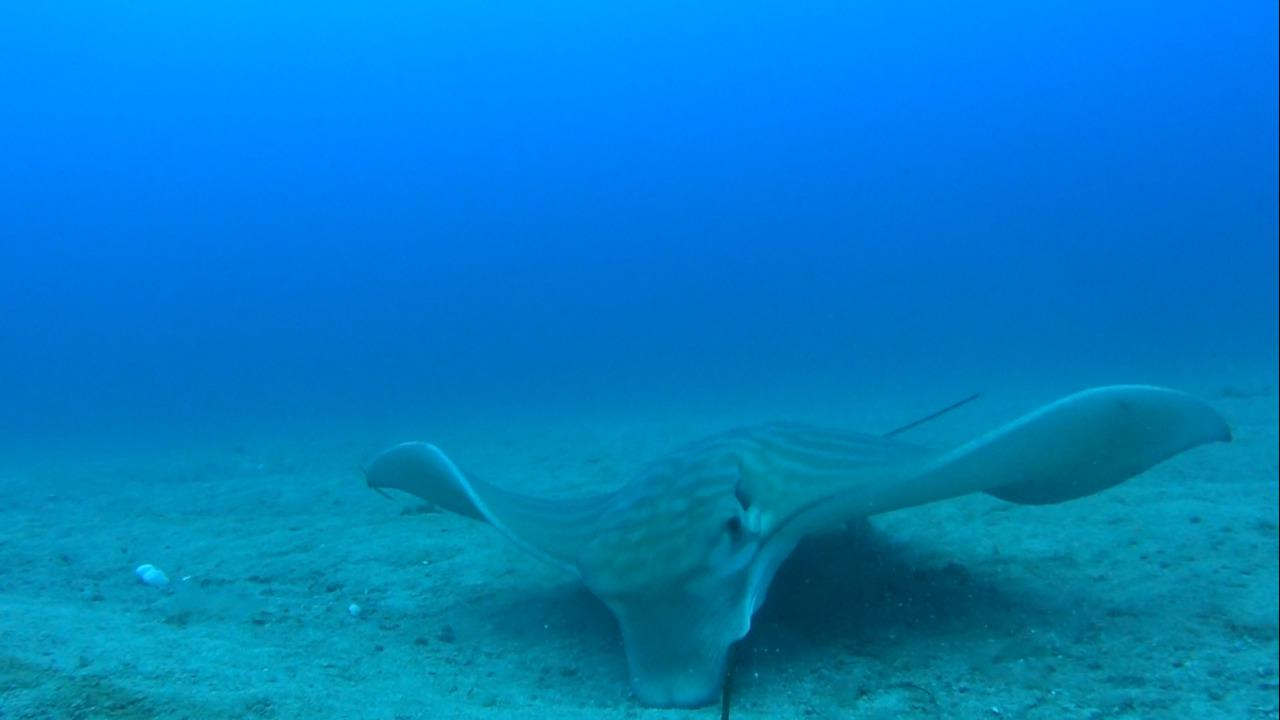myliobatis: (357, 370, 1243, 719)
